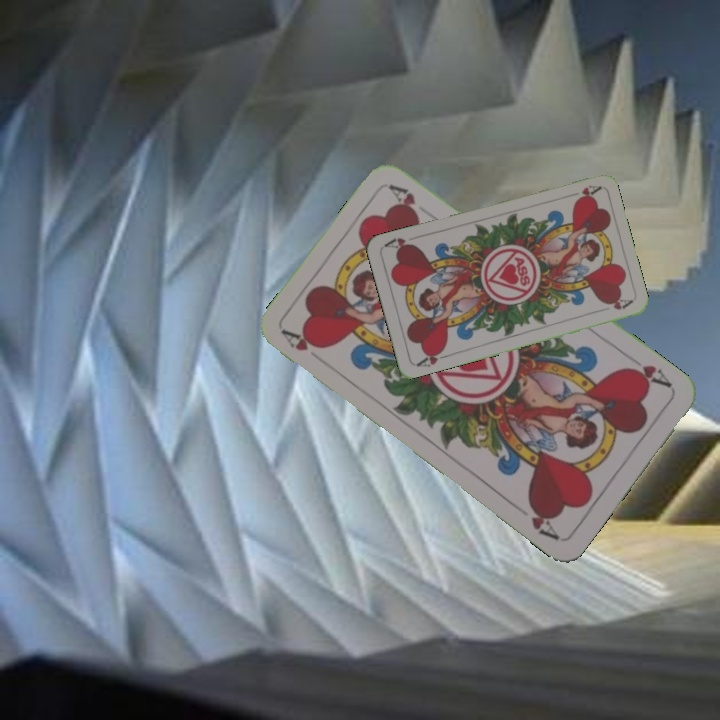HA: (621, 360, 675, 391), (278, 326, 327, 354), (412, 345, 452, 370), (562, 181, 602, 204)
